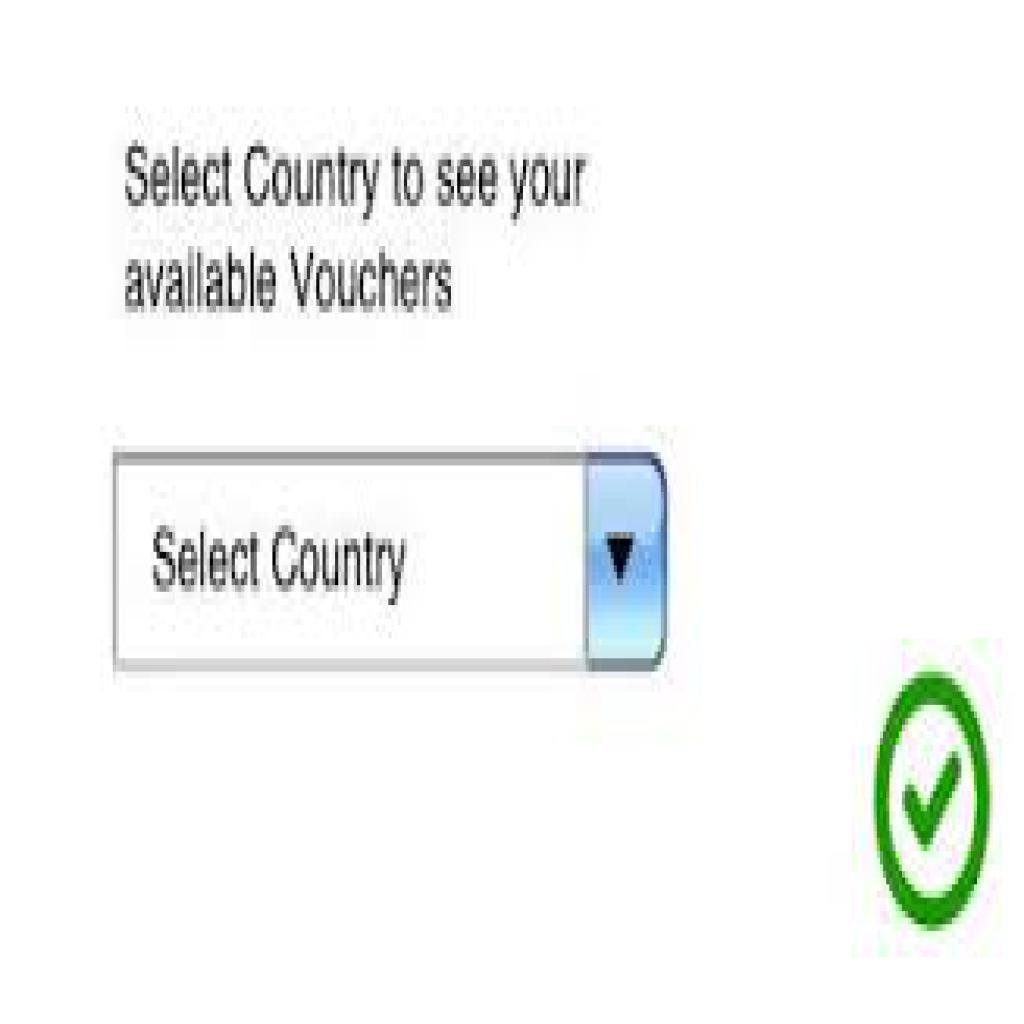dropdown: (116, 456, 668, 673)
icon: (830, 604, 1020, 958)
